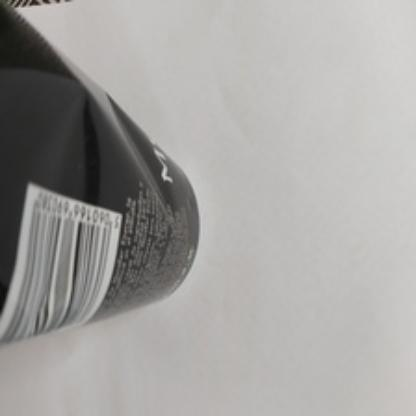Can: (0, 0, 202, 340)
